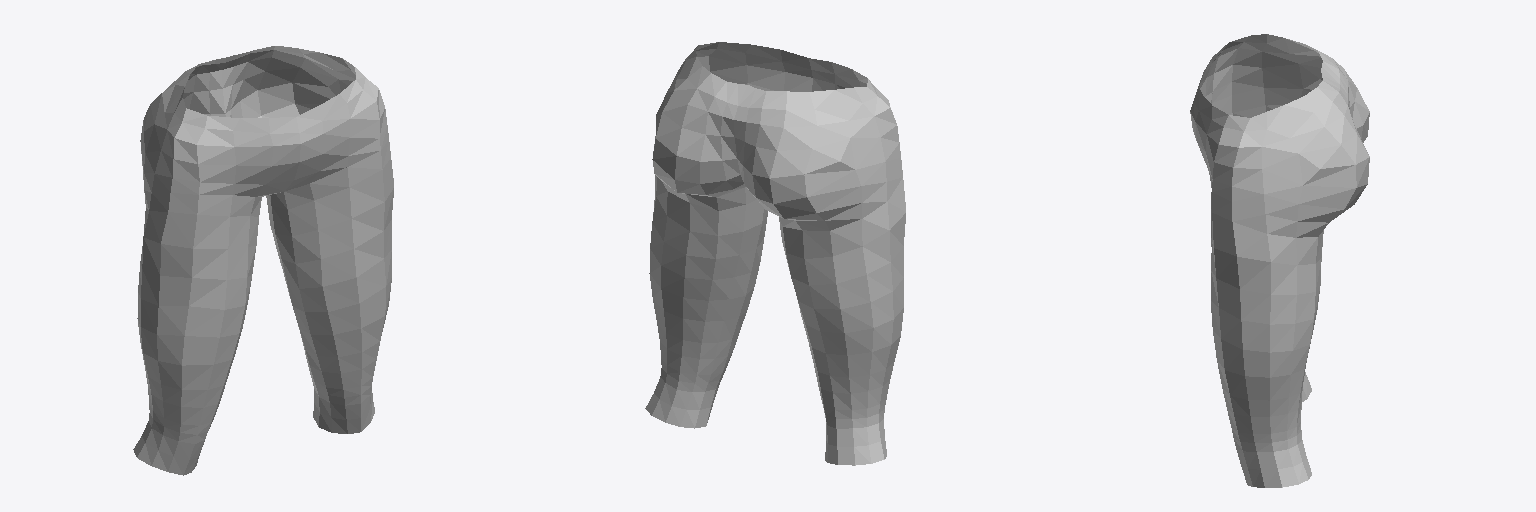
The model's file is Legs.OBJ.
The picture shows the model from 3 angles: view 1: azimuth 30°, elevation 25°; view 2: azimuth 150°, elevation 25°; view 3: azimuth 270°, elevation 25°; orthographic projection.
Parts seen in each view (by area): view 1: Group2; view 2: Group2; view 3: Group2.
Part boxes in pixels (x1,y1,x2,y2): Group2: (133,46,393,475); Group2: (645,42,905,465); Group2: (1190,34,1369,487).
Size of the model in its own units: 37.61 by 55.89 by 24.29.